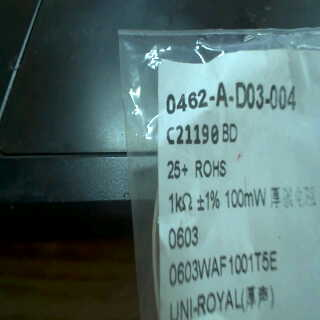1kR: (166, 187, 192, 217)
